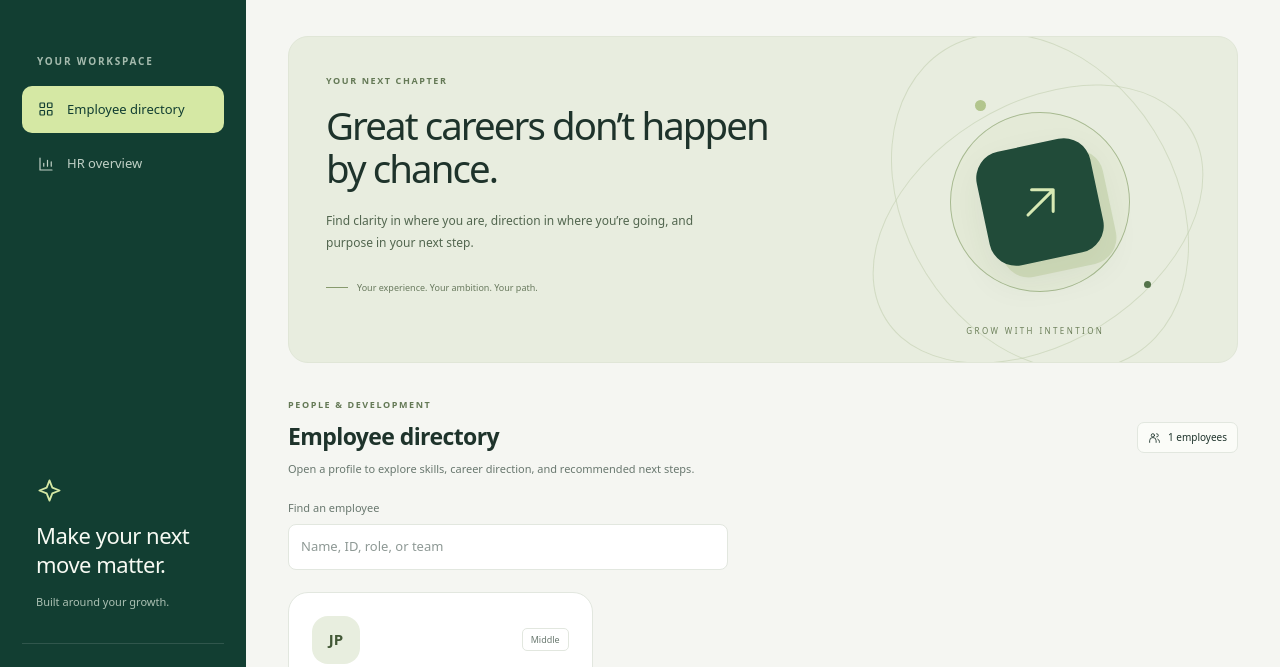
Test case: identity-aware navigation › filters the directory without assuming known employee IDs
Step 1. Type "not-present" into the search field labelled "Find an employee" → coordinates (508, 547), box left=288, top=524, right=728, bottom=570
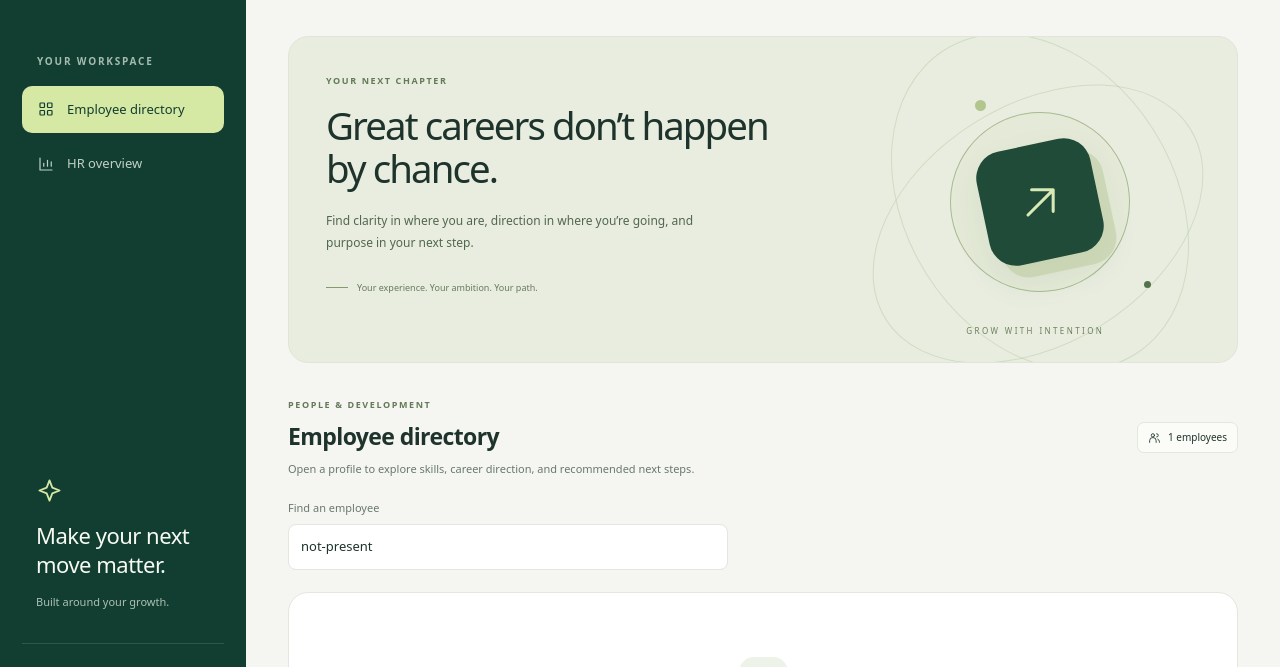
Step 2. Replace the text in the search field labelled "Find an employee" with "jury-new-id" → coordinates (508, 547), box left=288, top=524, right=728, bottom=570
(page scrolled)
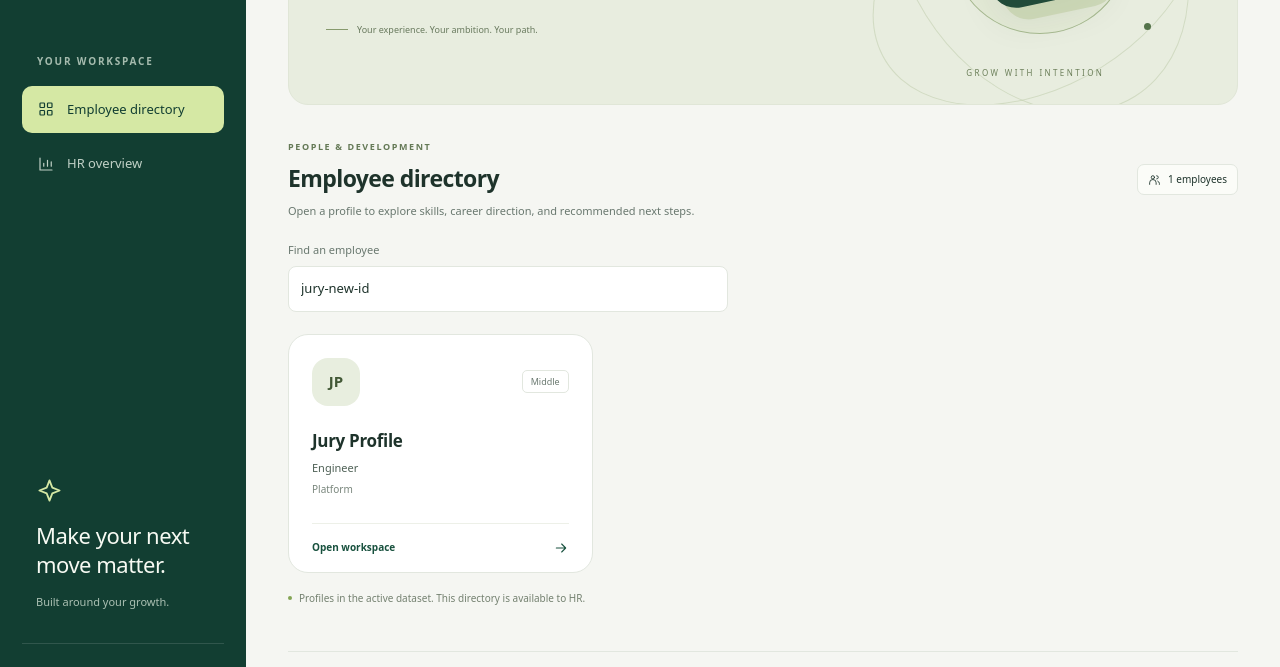
expect the heading "Jury Profile" is shown: met, box left=312, top=428, right=403, bottom=452
